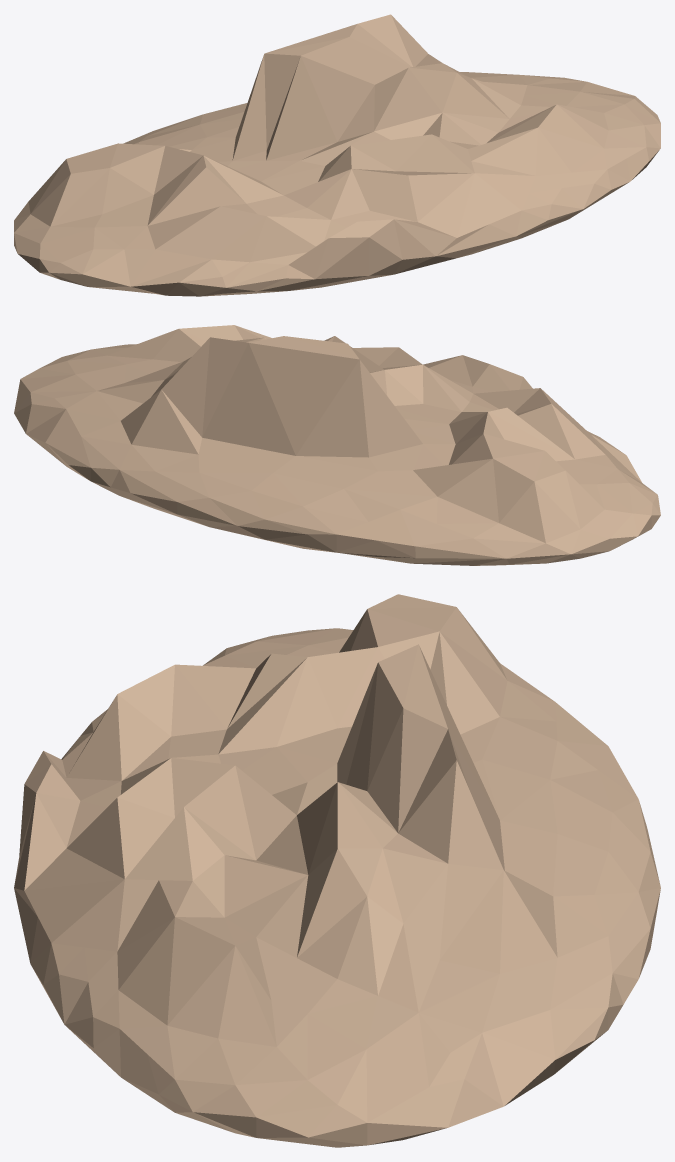
File: Canyon.fbx
3 renders of one model, top to bottom at view 1: azimuth 30°, elevation 25°; view 2: azimuth 150°, elevation 25°; view 3: azimuth 270°, elevation 25°, orthographic. The views are drawn at different scales.
Visible parts, largest first — view 1: pPlatonic3; view 2: pPlatonic3; view 3: pPlatonic3.
Part boxes in pixels (left/top/right/bottom): pPlatonic3: left=14, top=14, right=660, bottom=296; pPlatonic3: left=14, top=325, right=660, bottom=565; pPlatonic3: left=14, top=594, right=660, bottom=1147.
Size of the model in its own units: 15.4 by 3.97 by 8.44.
